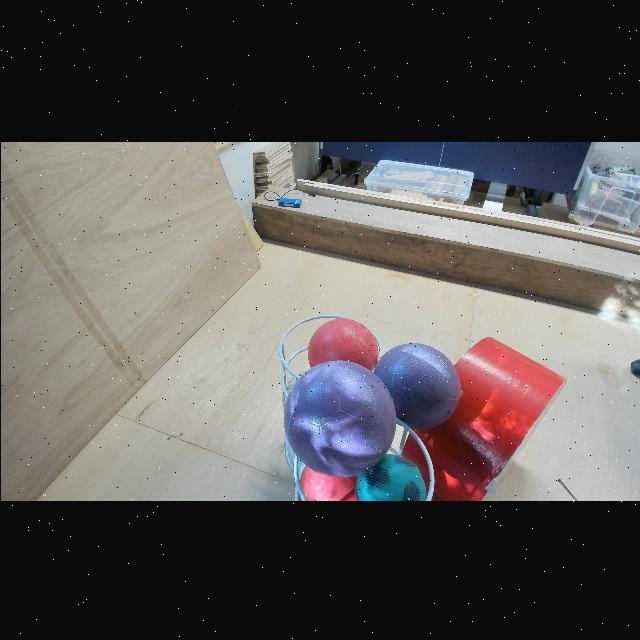P: (282, 358, 396, 478), (366, 340, 462, 432)
R: (306, 314, 378, 382), (296, 454, 370, 500)
S: (277, 312, 383, 480), (291, 411, 435, 499)
